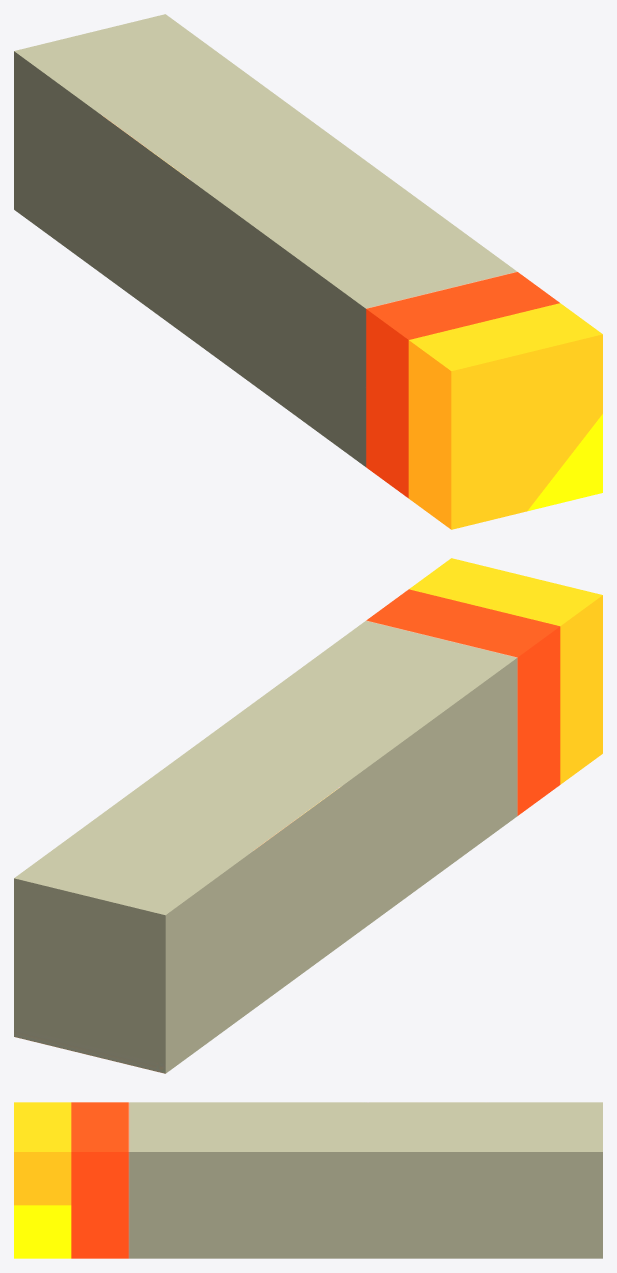
Rendered from joint.glb.
3 renders of one model, top to bottom at view 1: azimuth 30°, elevation 25°; view 2: azimuth 150°, elevation 25°; view 3: azimuth 270°, elevation 25°, orthographic. The views are drawn at different scales.
Visible parts, largest first — view 1: joint.002; view 2: joint.002; view 3: joint.002.
Boxes of the visible parts, bbox=[...] form: joint.002: bbox=[14, 14, 602, 529]; joint.002: bbox=[14, 558, 602, 1073]; joint.002: bbox=[14, 1102, 602, 1258].
Size of the model in its own units: 0.2 by 0.2 by 1.
Materials: 4 (1 with a texture image).
